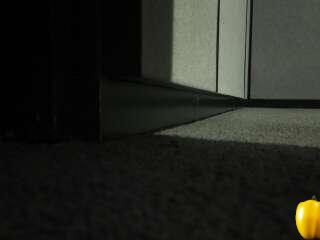Capsicum: (294, 193, 320, 239)
